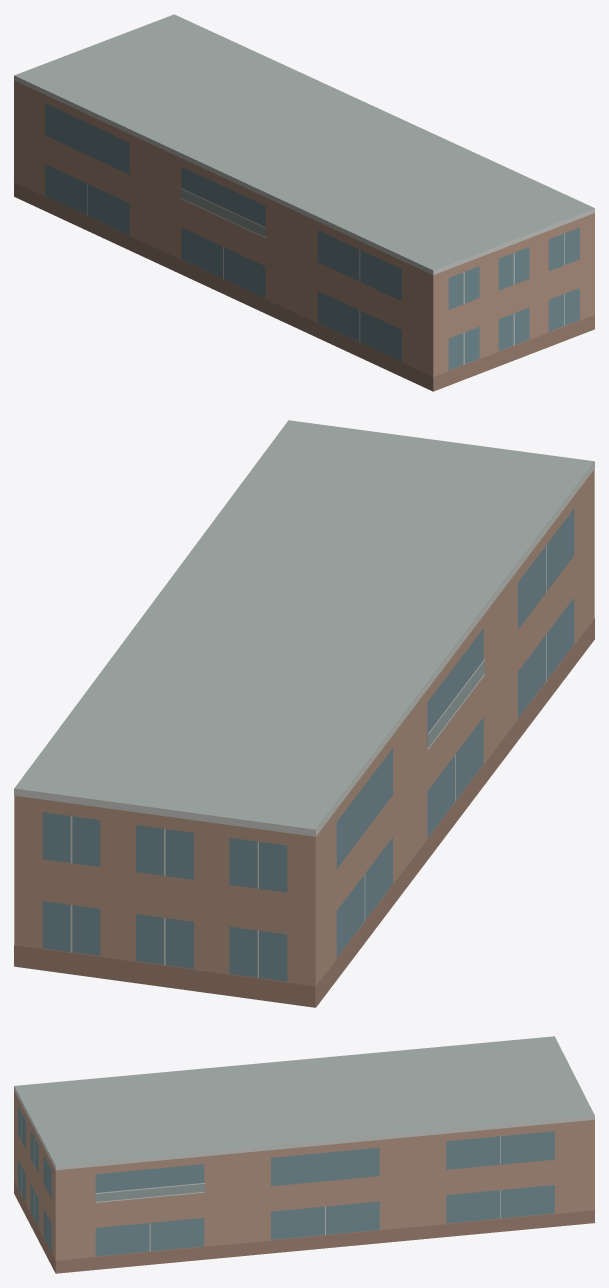
Rendered from survey-upis-32936356.glb.
3 views of the same model, one above another, from view 1: azimuth 30°, elevation 25°; view 2: azimuth 150°, elevation 25°; view 3: azimuth 270°, elevation 25° (orthographic). The views are drawn at different scales.
Parts seen in each view (by area): view 1: survey-upis-32936356.tmp; view 2: survey-upis-32936356.tmp; view 3: survey-upis-32936356.tmp.
Boxes of the visible parts, x1,y1,x2,y2 form: survey-upis-32936356.tmp: [14, 14, 594, 391]; survey-upis-32936356.tmp: [14, 420, 594, 1007]; survey-upis-32936356.tmp: [14, 1036, 594, 1273].
Bounding box in the file's own units: 15.8 × 6.1 × 29.86.
